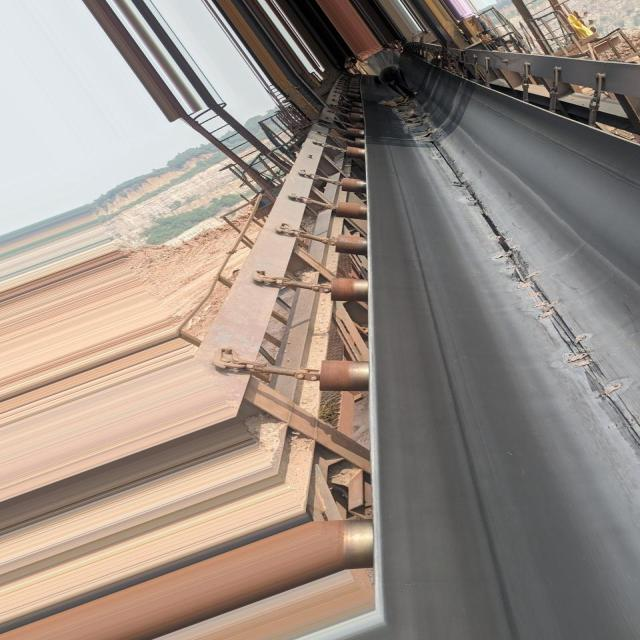Human: (378, 65, 415, 90)
Roller: (319, 81, 374, 394)
Tear: (425, 141, 510, 253)
patch work: (509, 258, 630, 456), (391, 93, 441, 144)
